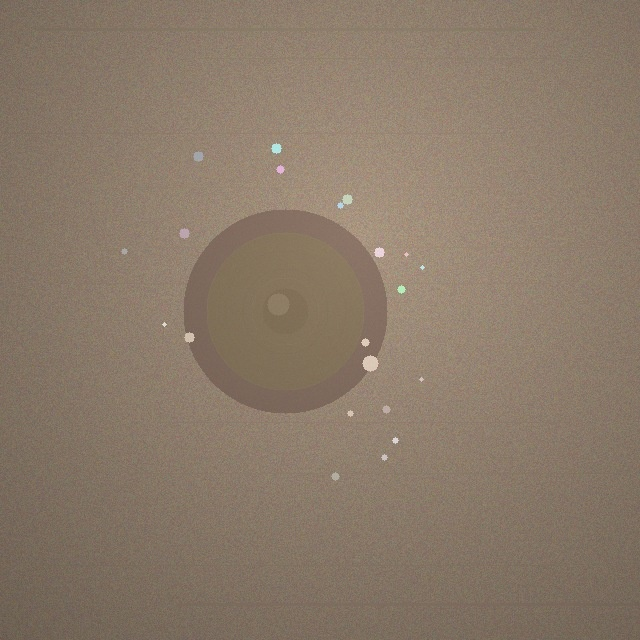overburn: (183, 209, 387, 413)
